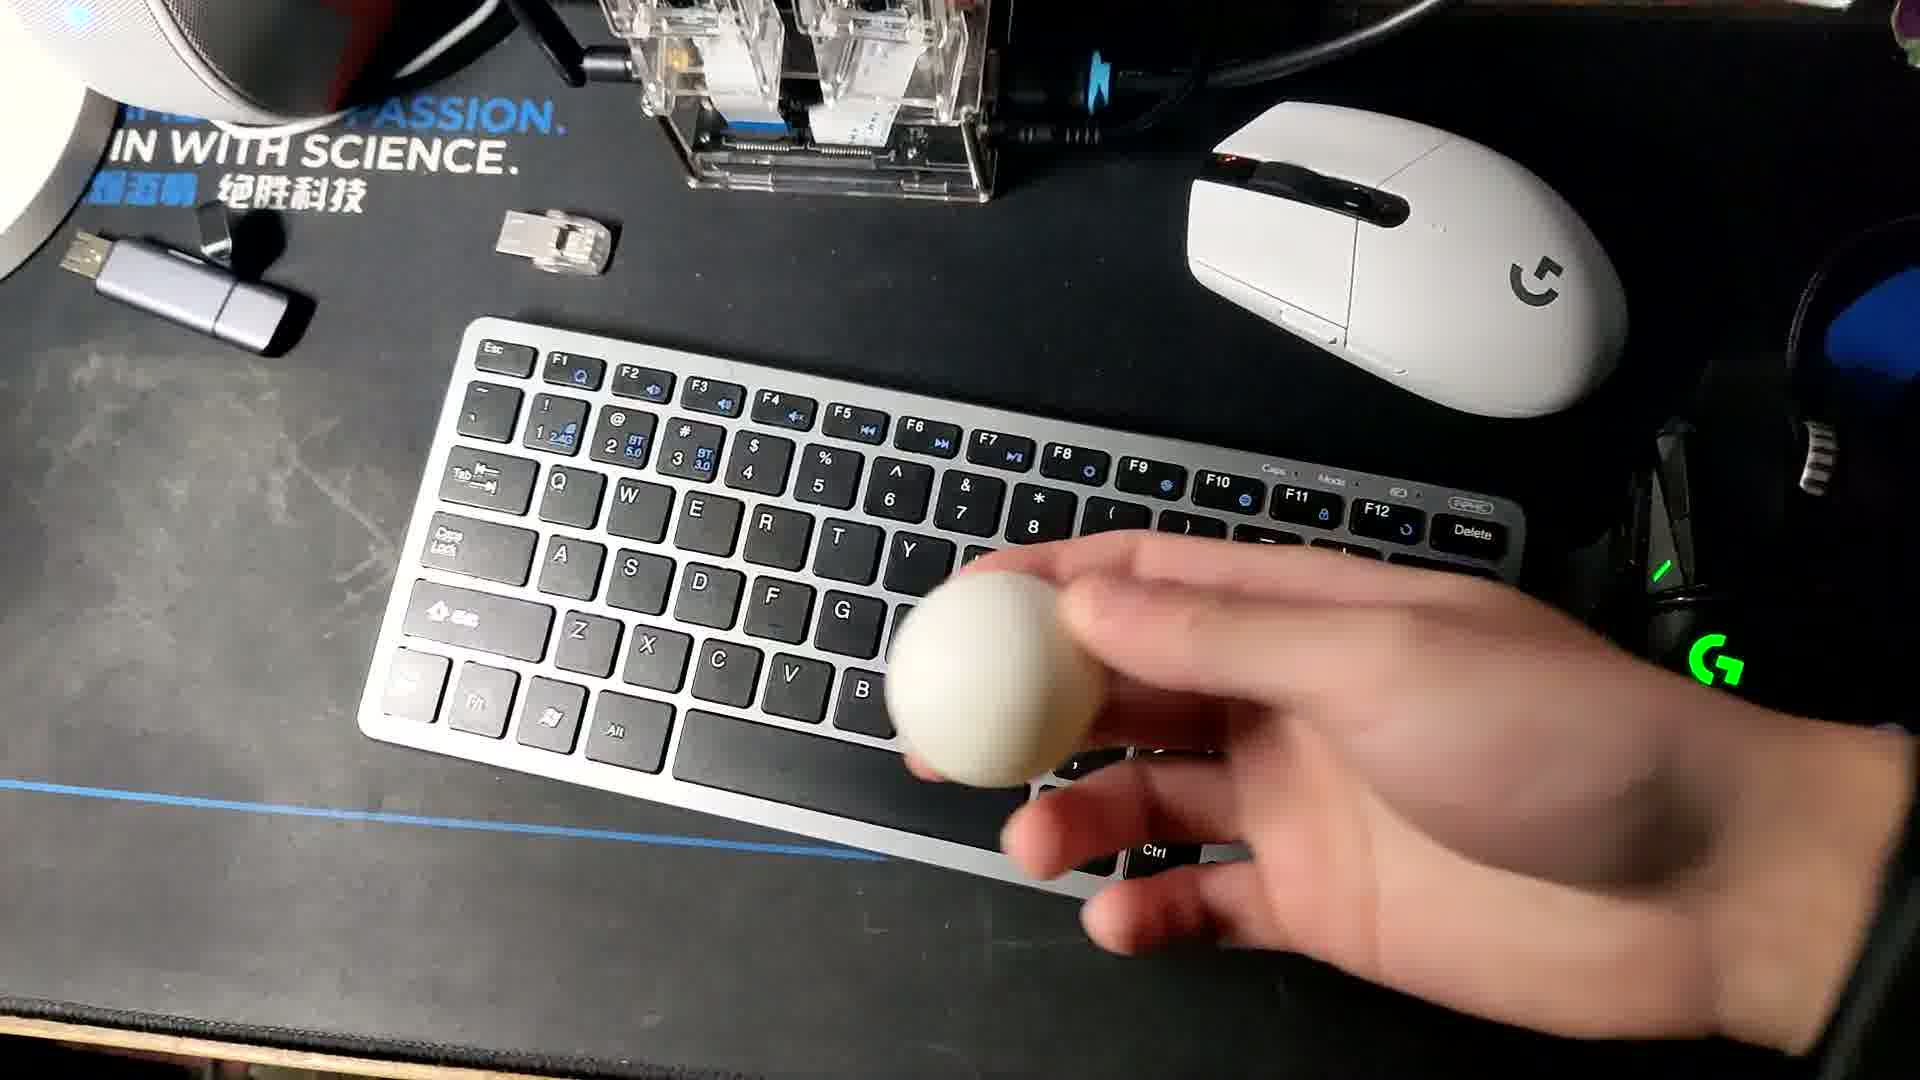Ball: (880, 564, 1114, 789)
